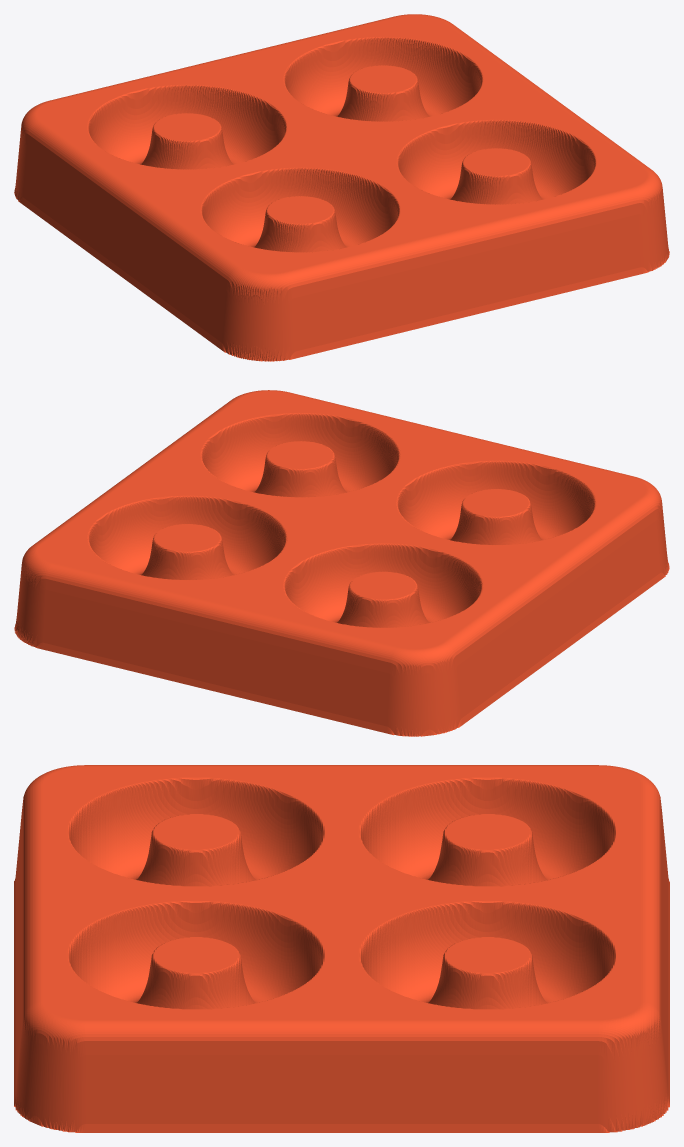
The model's file is mold.glb.
The picture shows the model from 3 angles, top to bottom: view 1: azimuth 30°, elevation 25°; view 2: azimuth 150°, elevation 25°; view 3: azimuth 270°, elevation 25°; orthographic projection. The views are drawn at different scales.
Parts seen in each view (by area): view 1: geometry_0; view 2: geometry_0; view 3: geometry_0.
Part boxes in pixels (bbox=[...]): geometry_0: bbox=[14, 14, 669, 361]; geometry_0: bbox=[14, 390, 669, 736]; geometry_0: bbox=[14, 765, 669, 1132].
Size of the model in its own units: 0.0828 by 0.014 by 0.0828.
